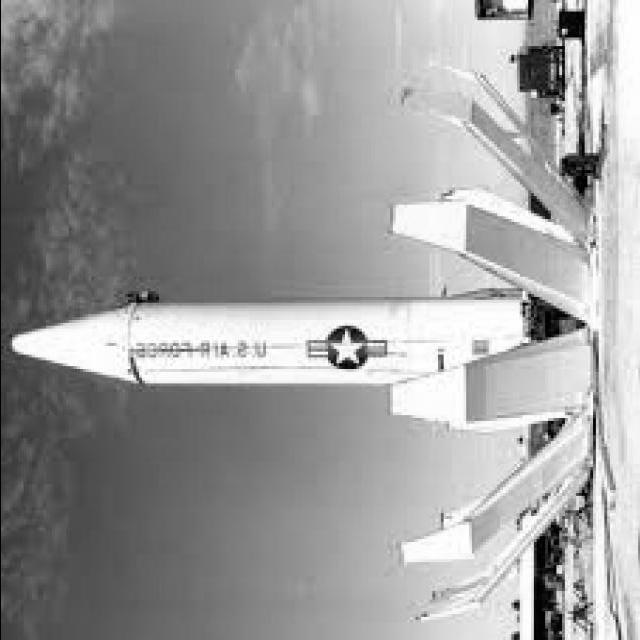missile: (1, 296, 528, 392)
